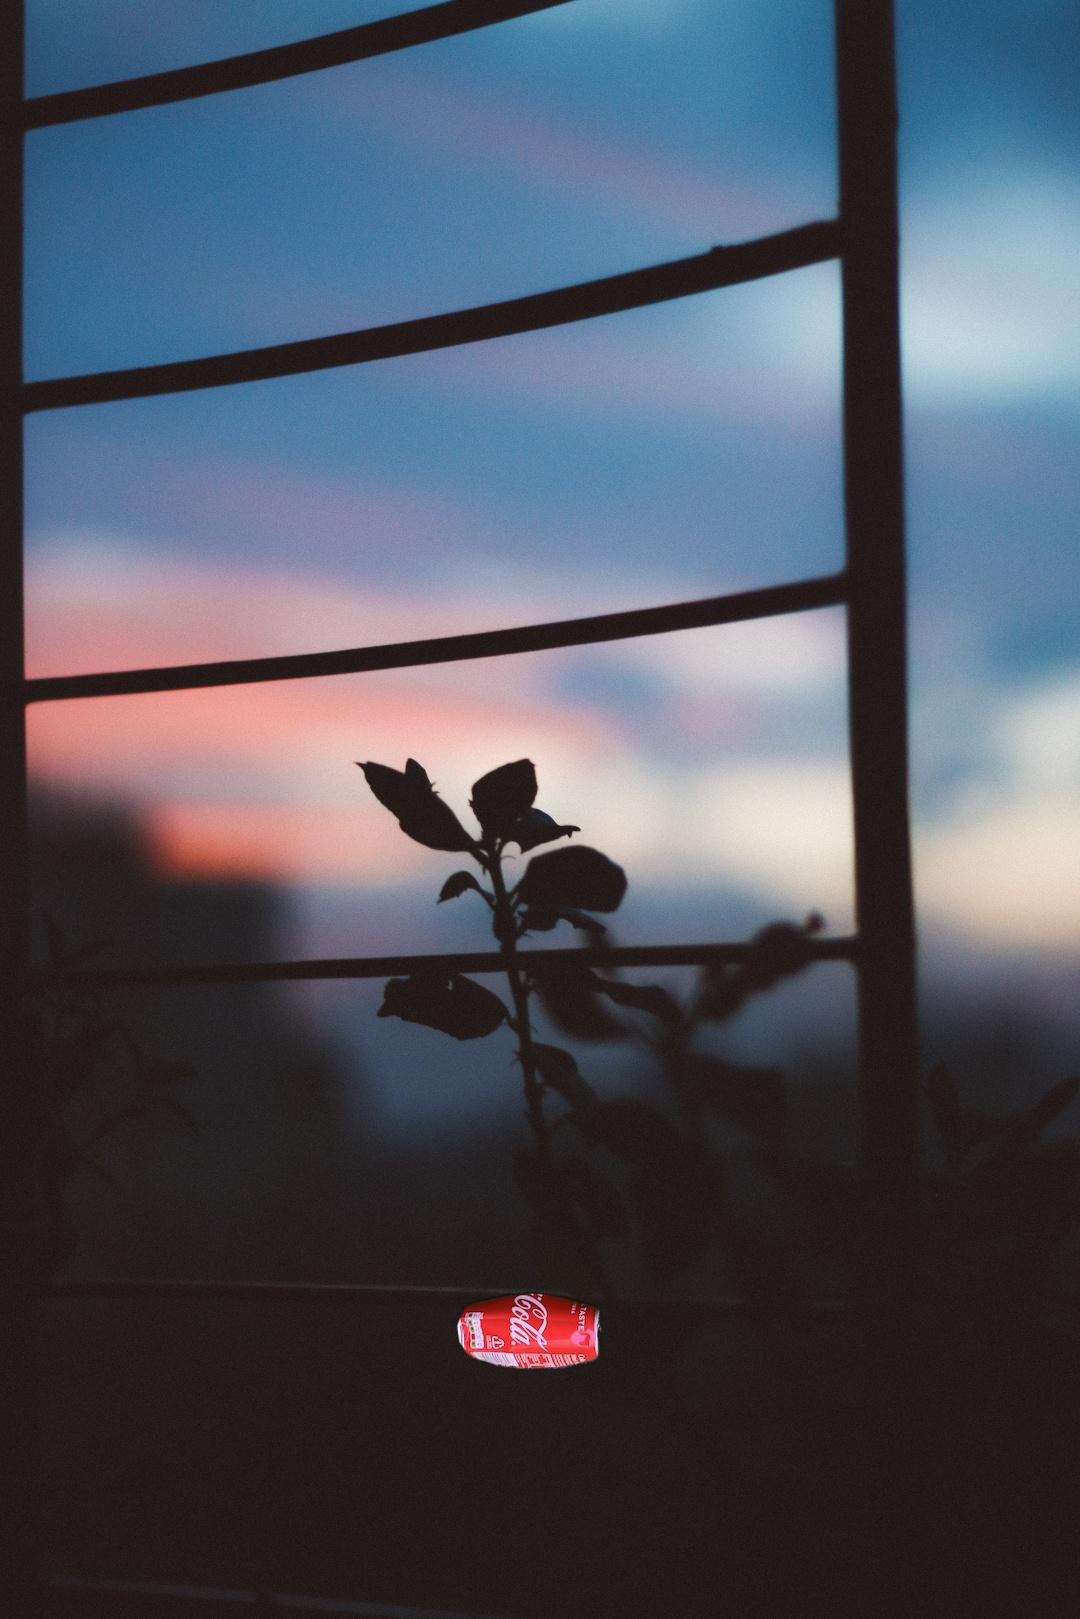metal-cans: (452, 1285, 952, 1619)
